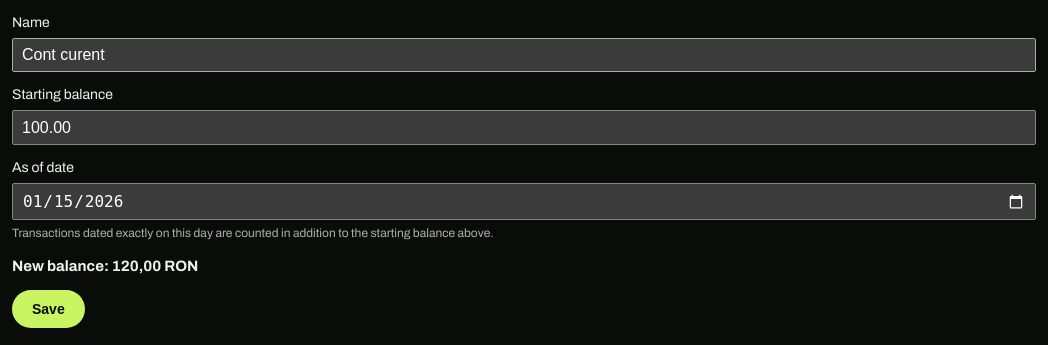
Test case: AccountCorrectionForm › updates the live preview when the reference date is edited, honoring the boundary
Expected: the text with test id "balance-preview" shows "120,00", top-left (112, 258), bottom-right (198, 274)
Step 1. Type "2026-03-01" into the date field labelled "As of date" → point(524, 202), box top-left (12, 183), bottom-right (1036, 220)
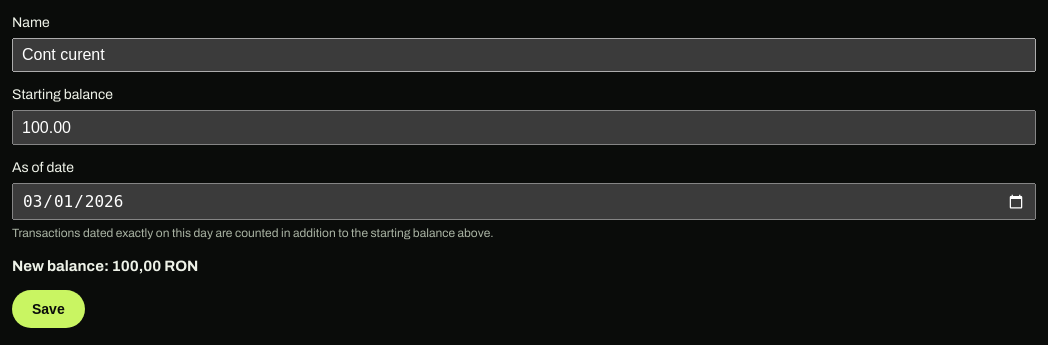
Expected: the text with test id "balance-preview" shows "100,00", top-left (112, 258), bottom-right (198, 274)
